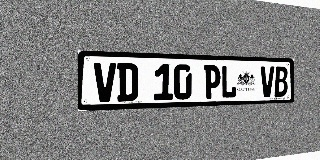0: (174, 64, 192, 100)
1: (154, 64, 173, 100)
B: (274, 66, 288, 97)
D: (117, 63, 138, 102)
L: (221, 65, 237, 98)
P: (204, 65, 220, 99)
V: (94, 62, 116, 102), (260, 66, 274, 97)
